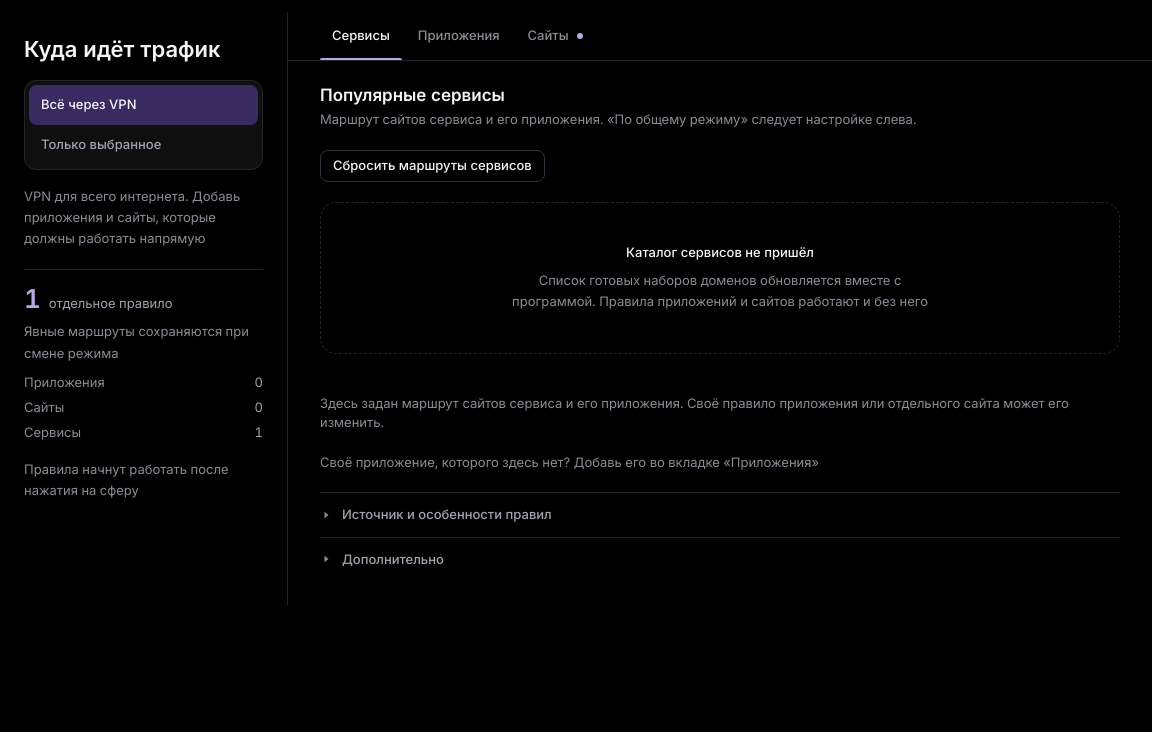
недоступный каталог не мешает сбросить сохранённые маршруты сервисов
This screenshot has width=1152, height=732.
Click the button "Сбросить маршруты сервисов".
click(432, 166)  # box 320,150 -> 545,182
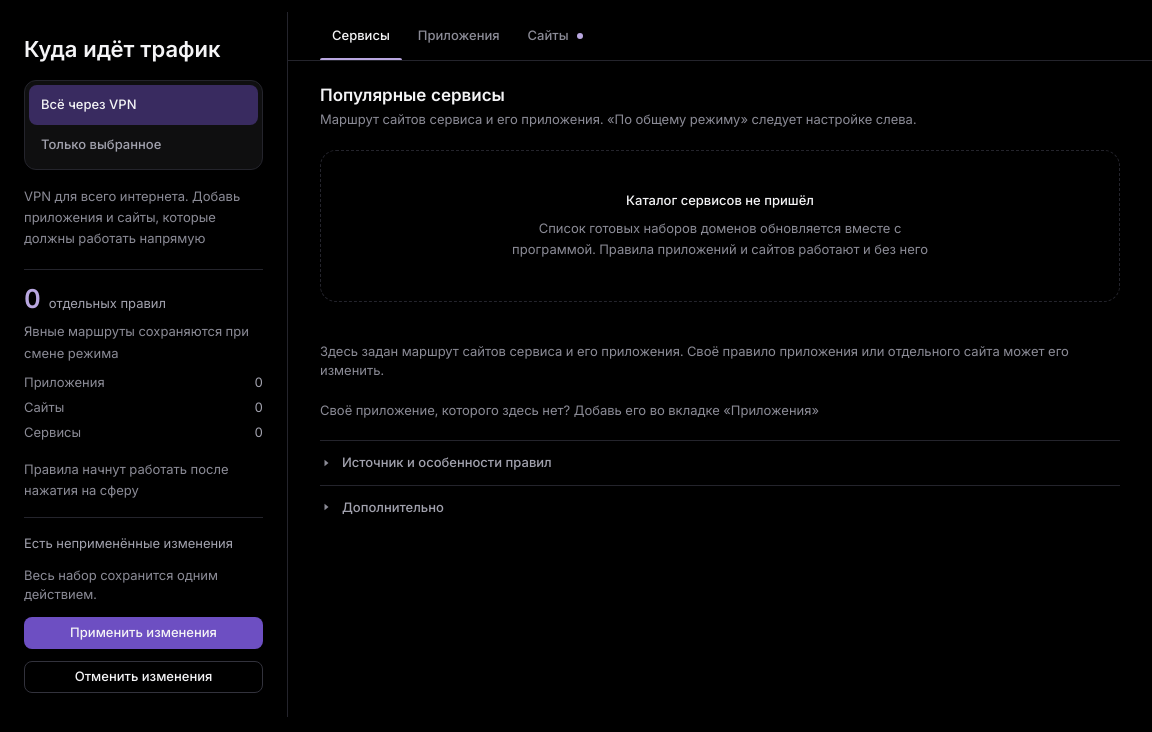
expect the button "Применить изменения" is enabled: met, box 24,617 -> 263,649
